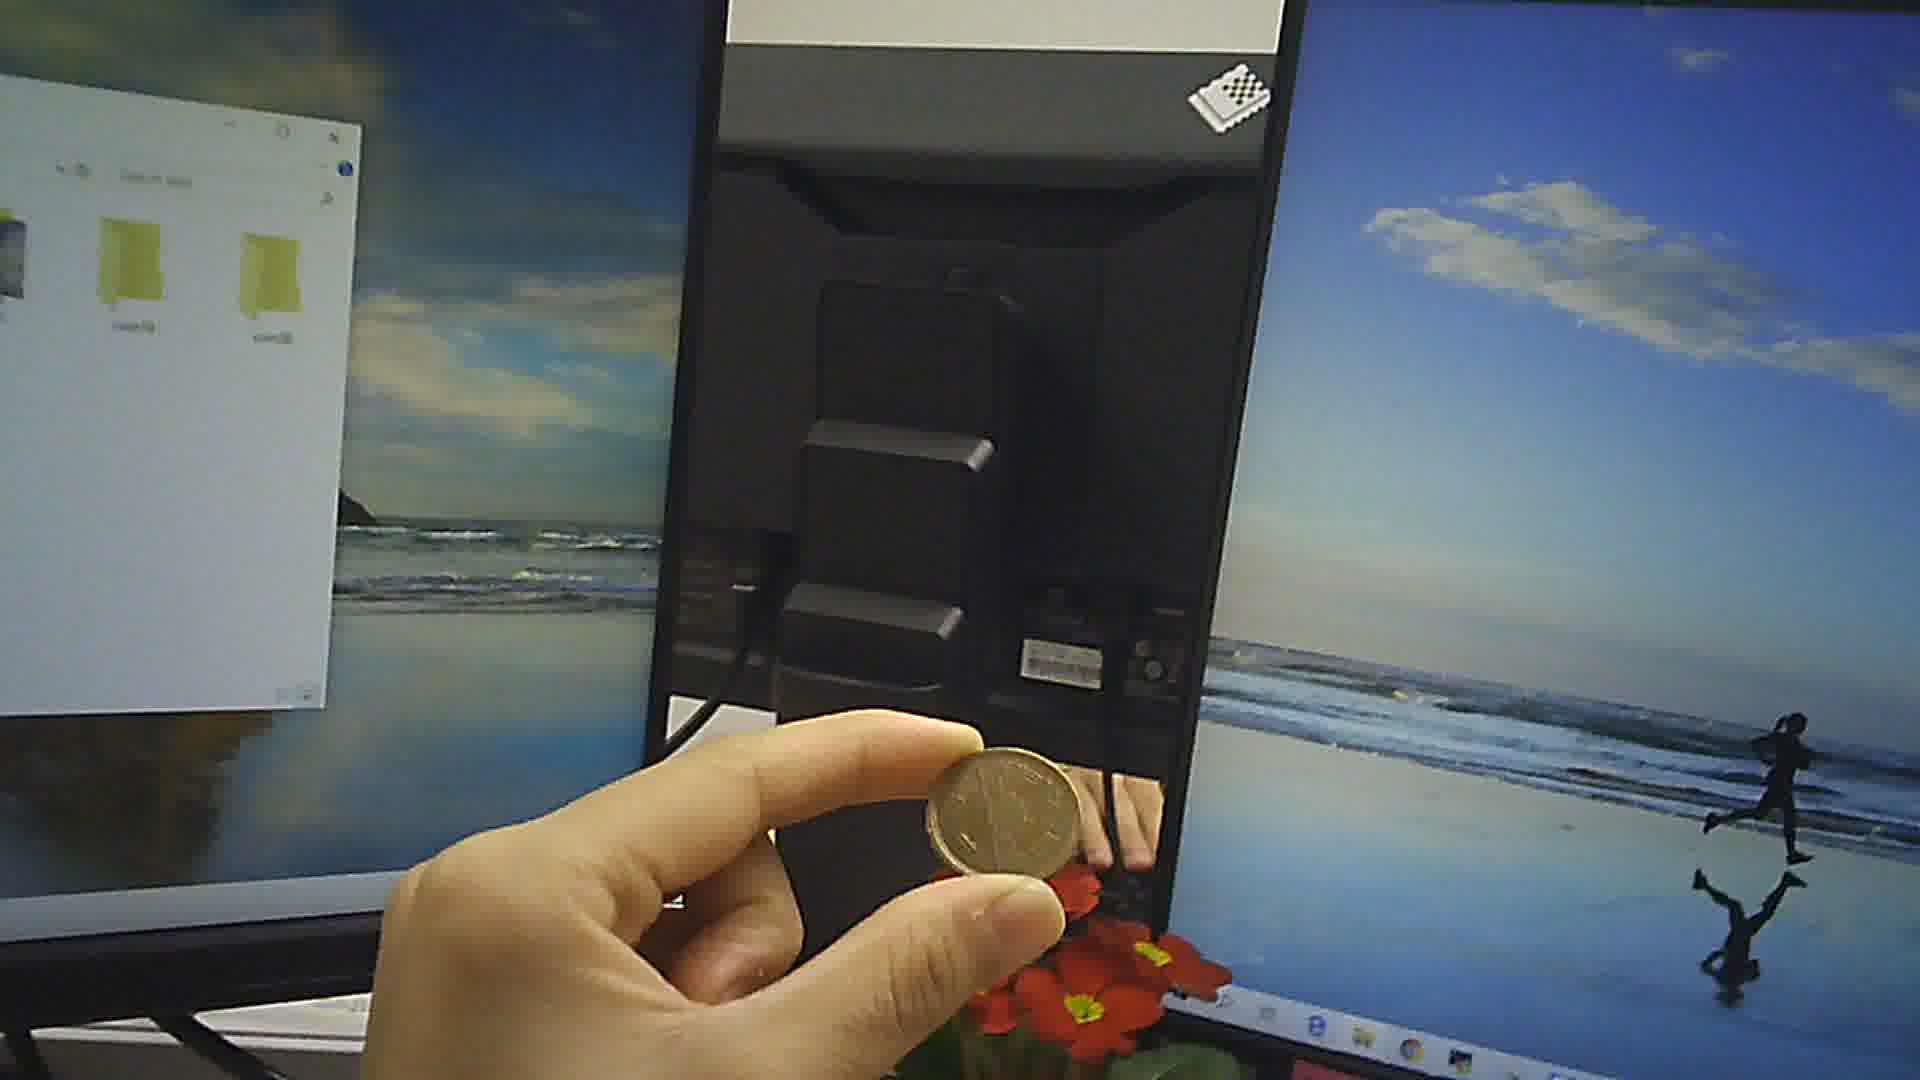10 Yen: (931, 742, 1084, 887)
